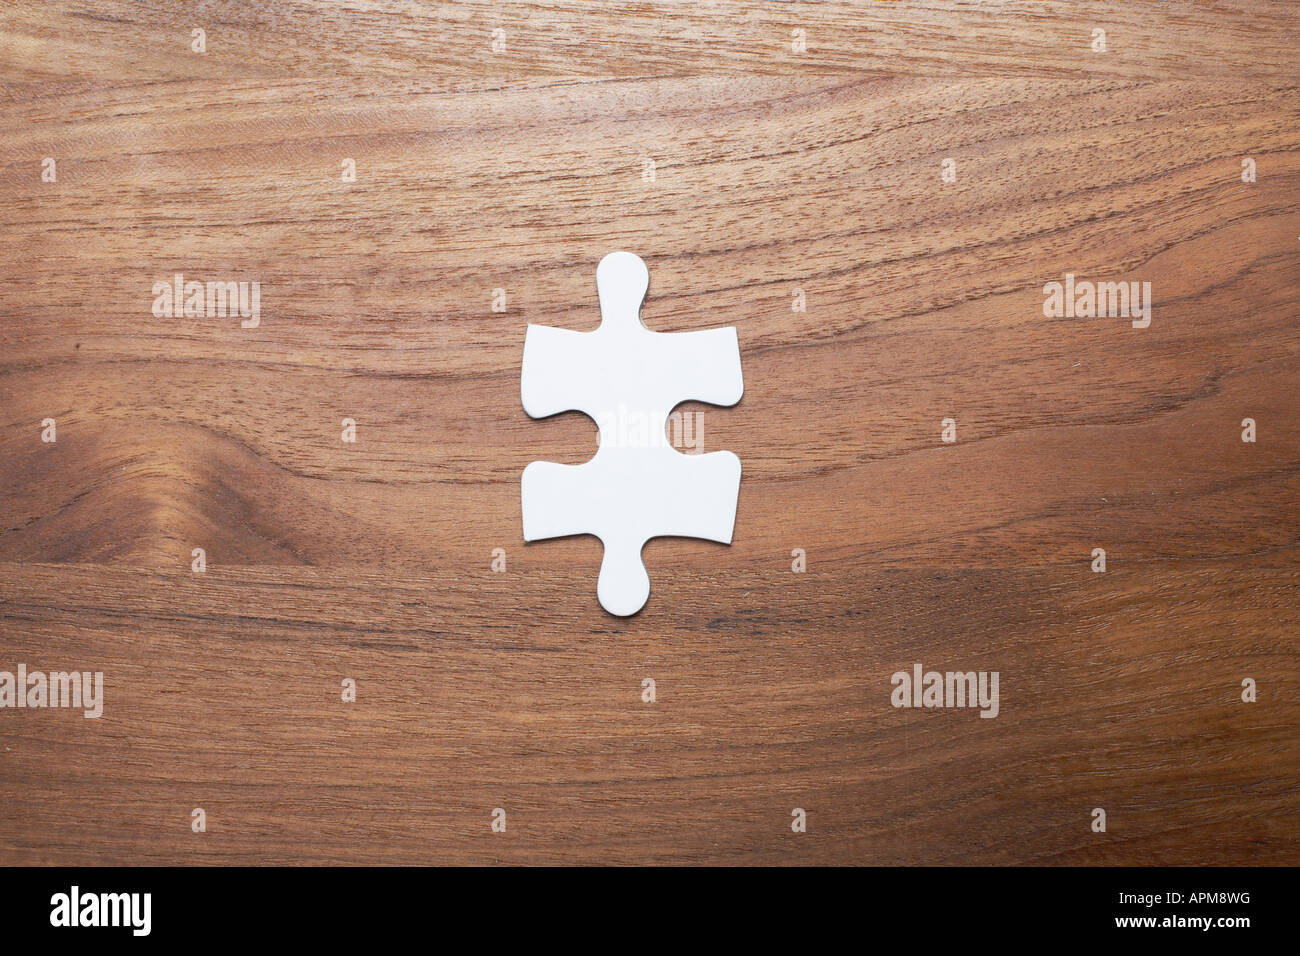puzzle piece: (479, 219, 765, 633)
